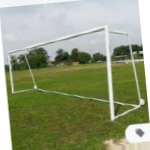goals: (7, 25, 143, 121)
